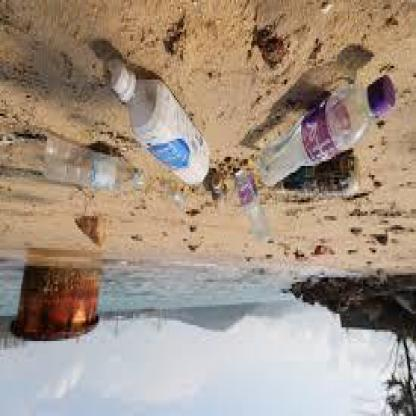Plastic: (257, 67, 398, 189), (107, 53, 217, 192), (39, 133, 147, 194)
